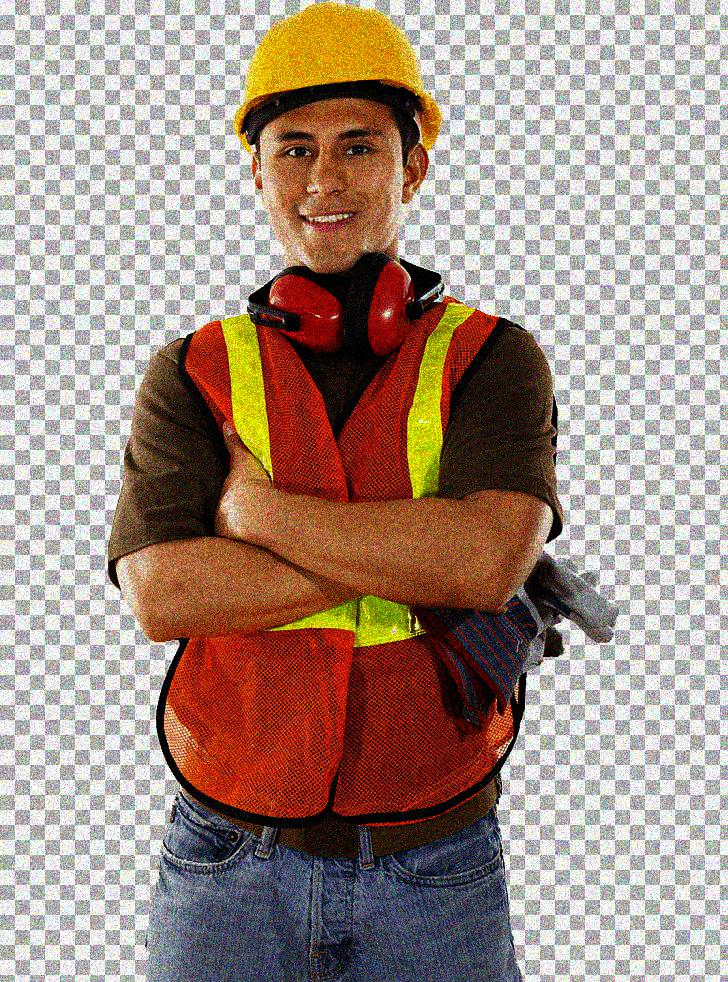helmet: (234, 1, 447, 280)
